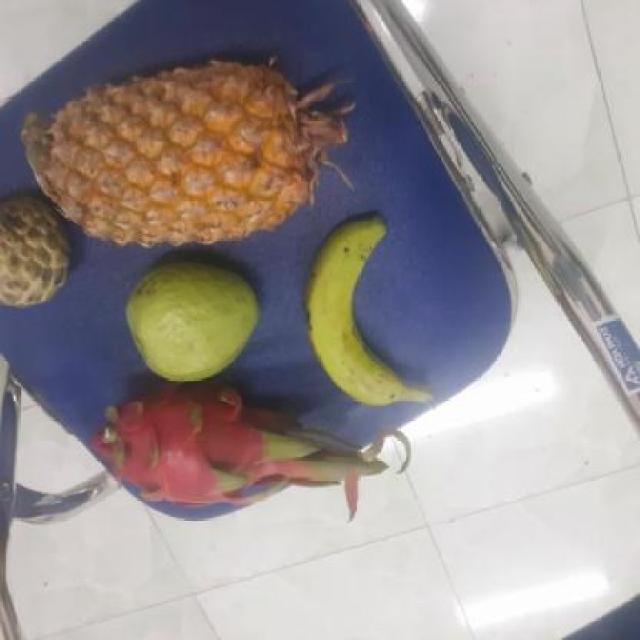banana: (306, 224, 422, 404)
dragon fruit: (102, 380, 300, 518)
guava: (121, 261, 264, 384)
pineapple: (36, 62, 341, 245)
sugar apple: (1, 195, 81, 308)
